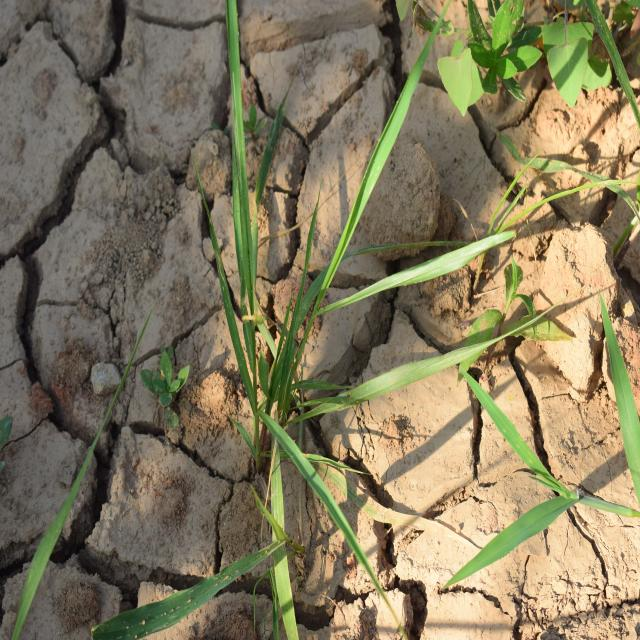green_foxtail: (194, 57, 451, 513)
